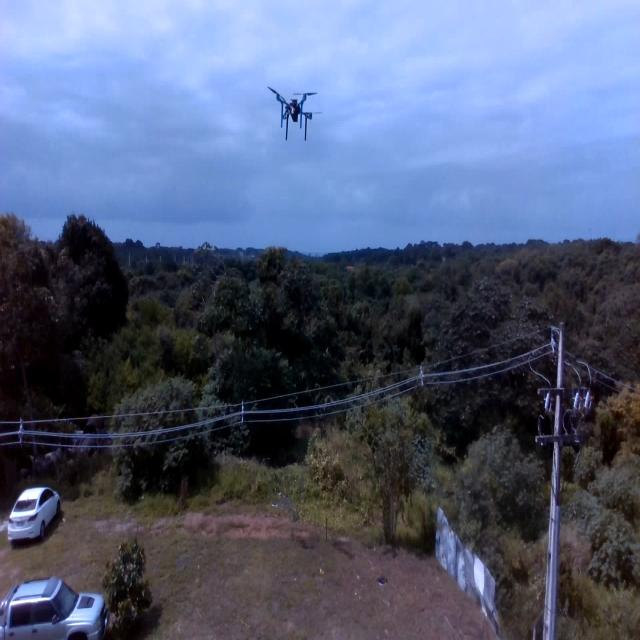-uav-: (260, 72, 330, 150)
